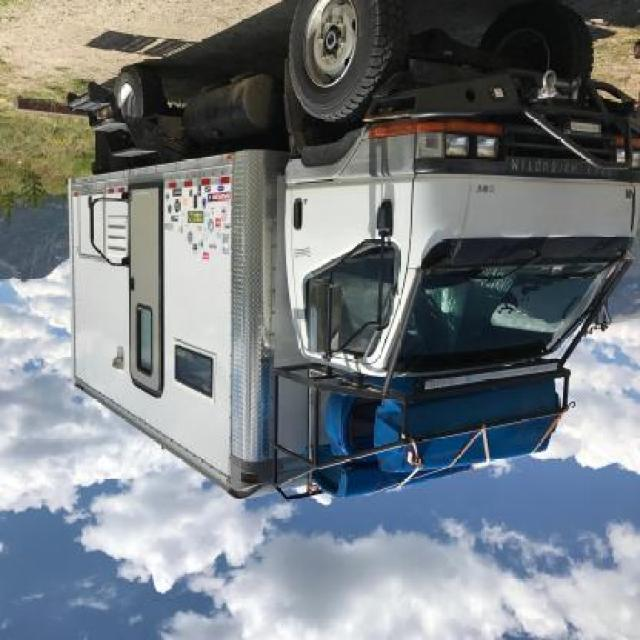truck: (68, 1, 640, 517)
